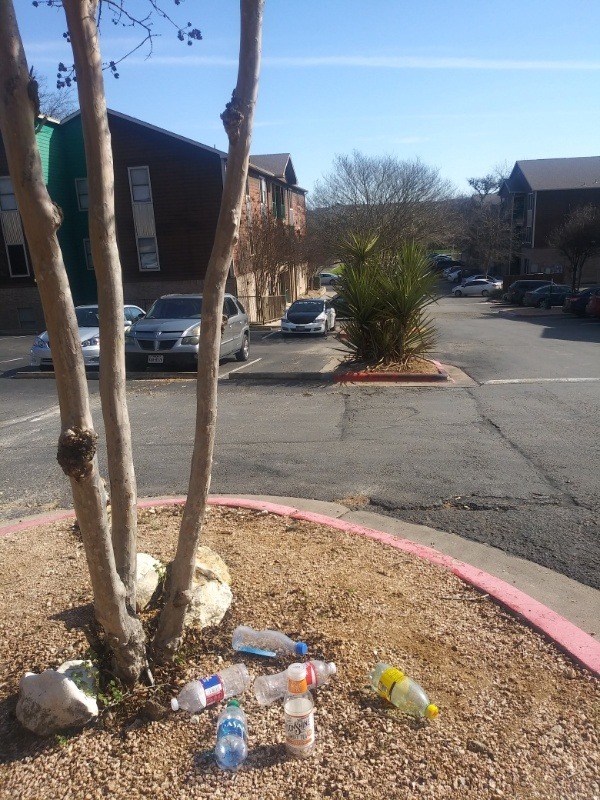bottle: (364, 656, 444, 727), (161, 660, 253, 716), (251, 654, 339, 712), (278, 660, 319, 761), (228, 623, 309, 661), (210, 697, 250, 769)
